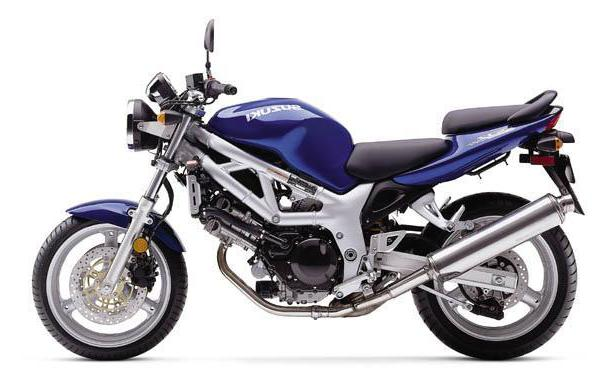motorcycle: (2, 3, 602, 374)
